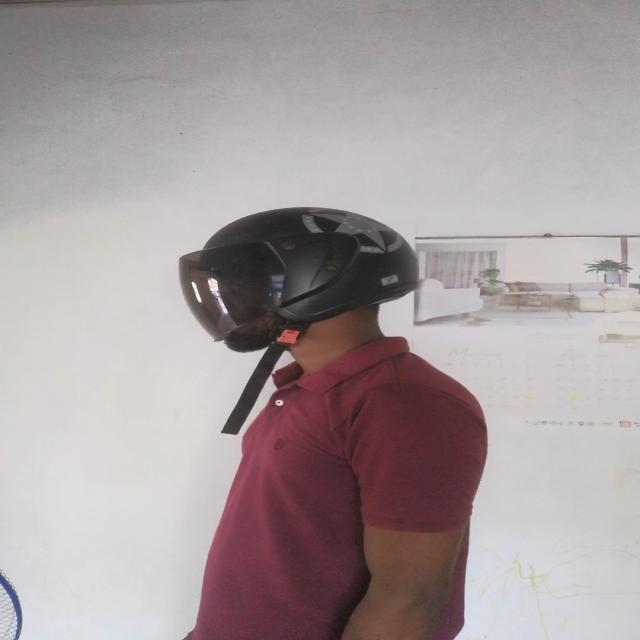Helmet_Wearer: (172, 206, 434, 378)
